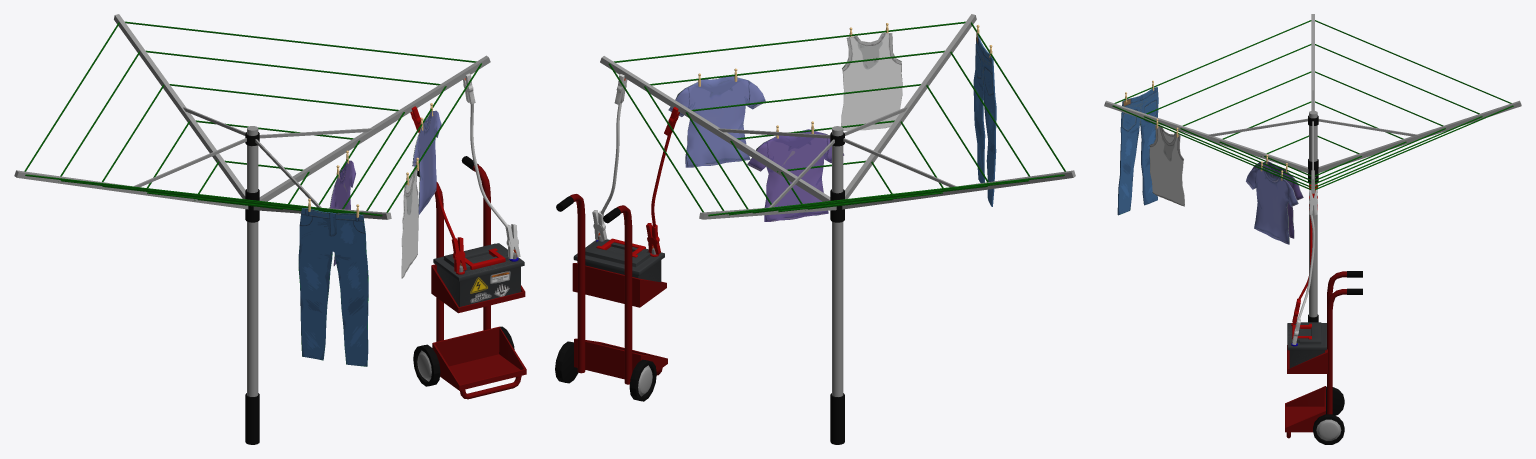
File: Clothes_Line_Trap_1.fbx
The picture shows the model from 3 angles, left to right: view 1: azimuth 30°, elevation 25°; view 2: azimuth 150°, elevation 25°; view 3: azimuth 270°, elevation 25°; orthographic projection. The views are drawn at different scales.
Visible parts, largest first — view 1: Clothes_Hanger, Pants_1, Trolly, Car_battery, T-Shirt, Vest, Black_Jump_Cable, T-Shirt_1, Red_Jump_Cable; view 2: Clothes_Hanger, Trolly, T-Shirt, Vest, T-Shirt_1, Pants_1, Car_battery, Black_Jump_Cable, Red_Jump_Cable; view 3: Clothes_Hanger, Trolly, Pants_1, T-Shirt, Vest, Car_battery, Black_Jump_Cable, T-Shirt_1.
Part boxes in pixels (x1,y1,x2,y2): Clothes_Hanger: (14,14,490,444); Pants_1: (298,208,368,366); Trolly: (413,156,526,399); Car_battery: (433,243,524,306); T-Shirt: (412,110,441,214); Vest: (401,167,418,278); Black_Jump_Cable: (463,73,520,258); T-Shirt_1: (329,160,355,265); Red_Jump_Cable: (410,106,466,272); Clothes_Hanger: (600,14,1075,444); Trolly: (555,194,667,401); T-Shirt: (668,76,765,167); Vest: (841,33,902,130); T-Shirt_1: (747,129,844,221); Pants_1: (973,33,996,206); Car_battery: (573,235,664,281); Black_Jump_Cable: (592,74,627,241); Red_Jump_Cable: (646,107,679,254); Clothes_Hanger: (1104,14,1521,322); Trolly: (1285,271,1362,444); Pants_1: (1117,87,1158,215); T-Shirt: (1246,167,1298,244); Vest: (1149,125,1184,206); Car_battery: (1287,320,1326,368); Black_Jump_Cable: (1292,189,1317,344); T-Shirt_1: (1251,161,1303,238).
Size of the model in its own units: 750 by 476 by 711.
